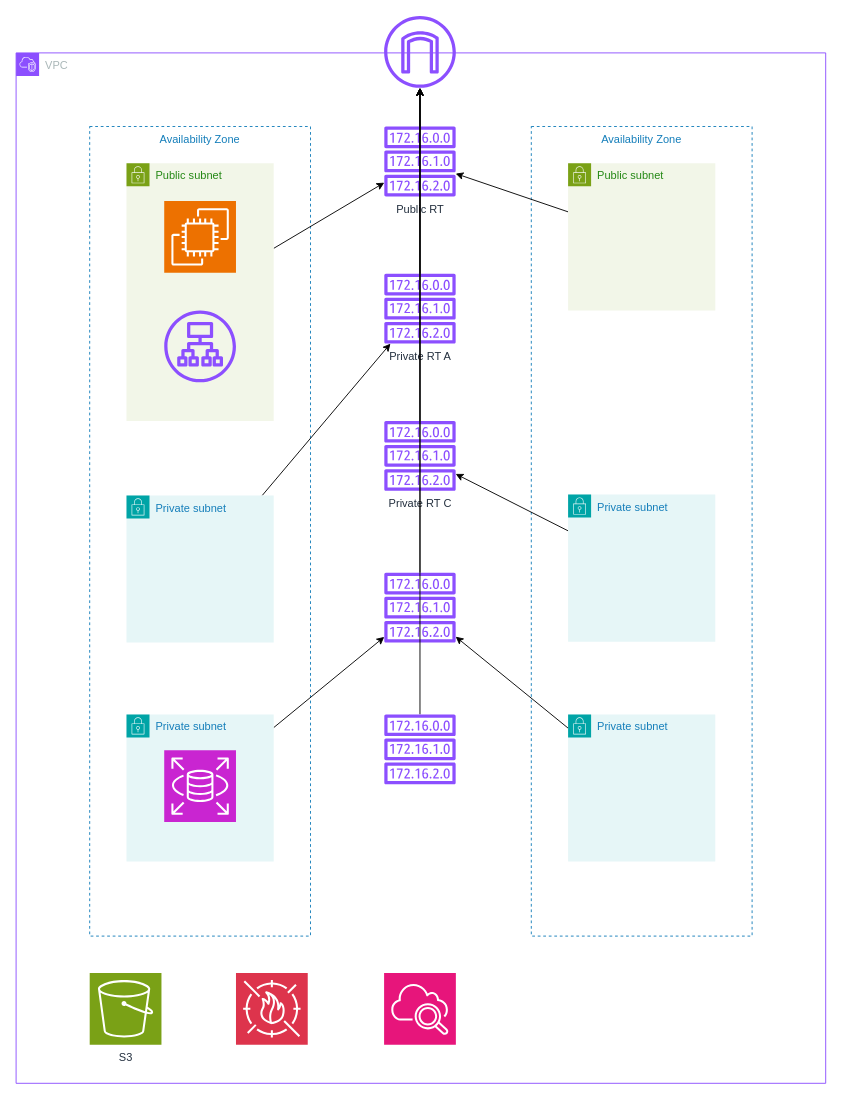
Image size: 842x1099. Some labels were removed from this diagram. The centre of each missing label's shape, as x and y in pixels:
"ALB" belongs at point (200, 346).
"Cloud Watch" belongs at point (419, 1008).
"Default RT" belongs at point (419, 749).
"EC2" belongs at point (199, 236).
"RDS" belongs at point (199, 785).
"RDS Private RT" belongs at point (419, 607).
"WAF" belongs at point (271, 1008).
